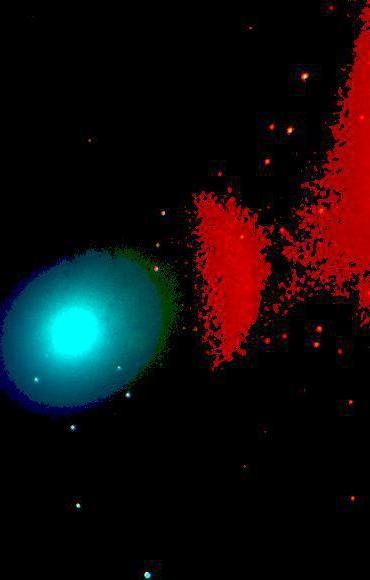star: (92, 326, 122, 356)
